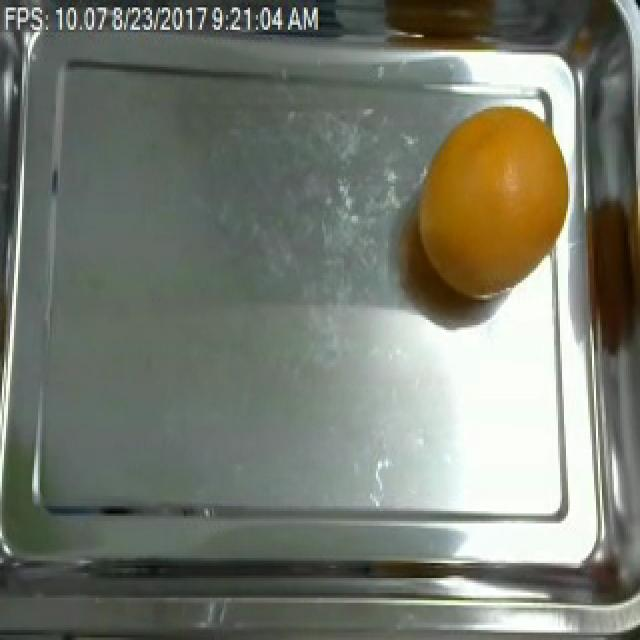Fruit: (410, 92, 572, 305)
